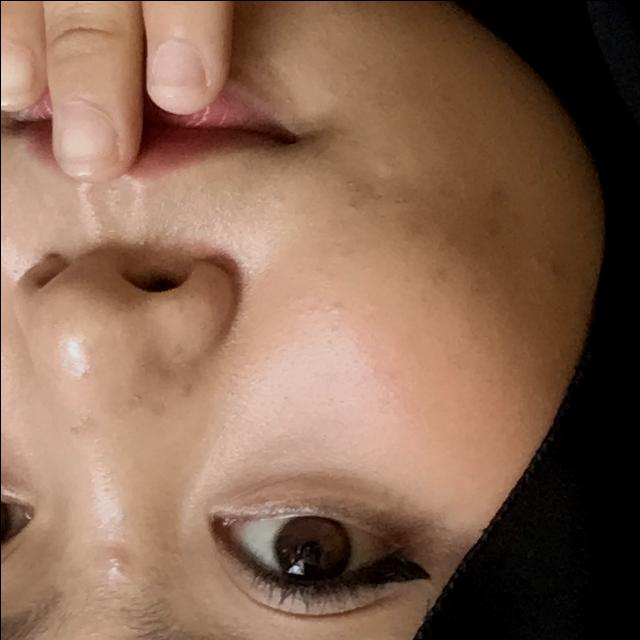ganteng: (0, 0, 510, 234)
